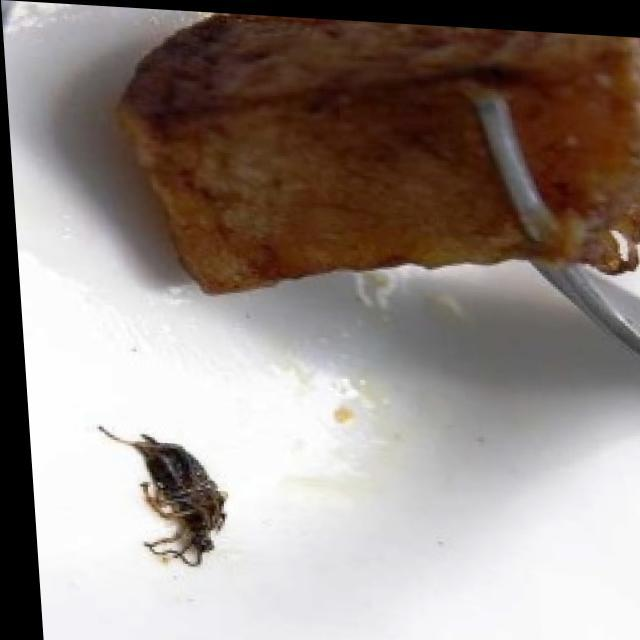cockroach: (93, 419, 234, 570)
